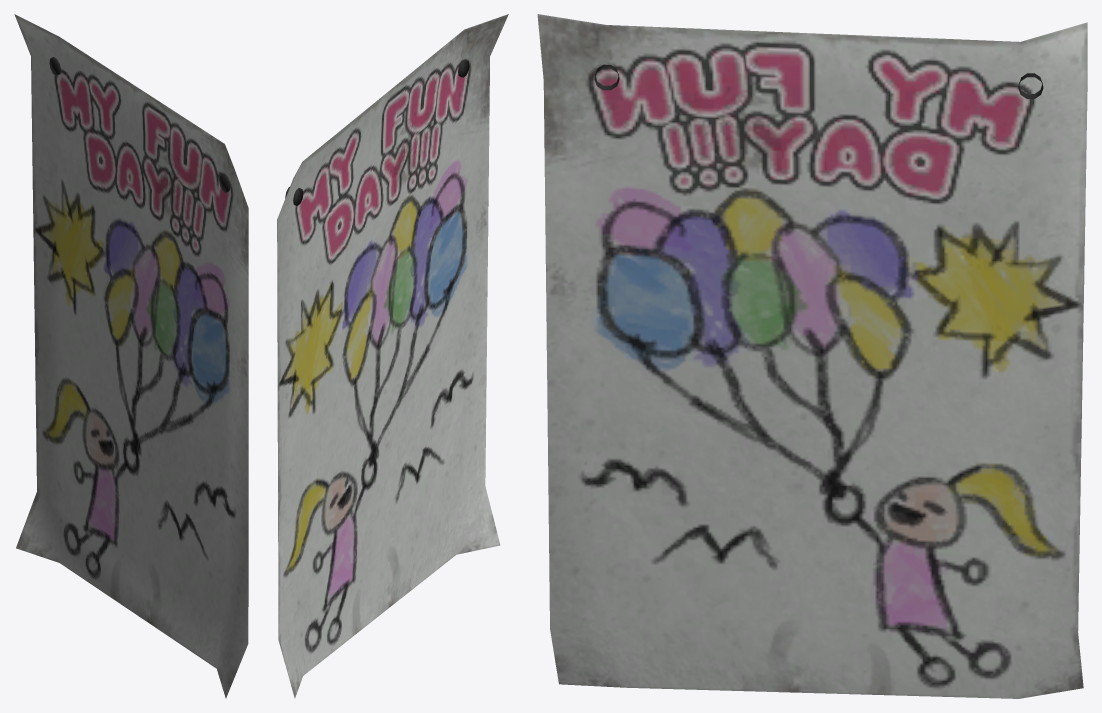
Rendered from drawingfunday8_reference.001.fbx.
3 renders of one model, left to right at view 1: azimuth 30°, elevation 25°; view 2: azimuth 150°, elevation 25°; view 3: azimuth 270°, elevation 25°, orthographic. The views are drawn at different scales.
Parts seen in each view (by area): view 1: drawingfunday8_reference.001; view 2: drawingfunday8_reference.001; view 3: drawingfunday8_reference.001.
Boxes of the visible parts, left/top/right/bottom form: drawingfunday8_reference.001: left=14, top=14, right=248, bottom=698; drawingfunday8_reference.001: left=277, top=14, right=508, bottom=698; drawingfunday8_reference.001: left=537, top=14, right=1087, bottom=698.
Bounding box in the file's own units: 1.53 × 30.27 × 22.38.
